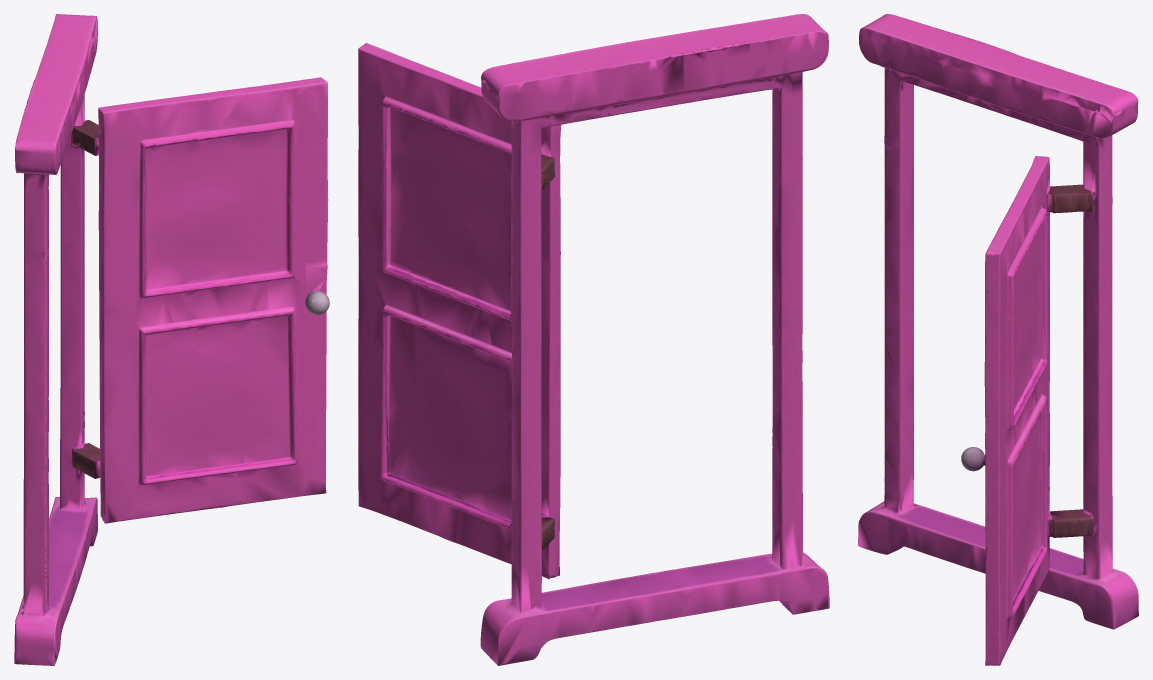
3 views of the same model, side by side, from view 1: azimuth 30°, elevation 25°; view 2: azimuth 150°, elevation 25°; view 3: azimuth 270°, elevation 25° (orthographic). The views are drawn at different scales.
Visible parts, largest first — view 1: tripo_node_375bfd70-03a4-4226-bf1f-712ff7839f95; view 2: tripo_node_375bfd70-03a4-4226-bf1f-712ff7839f95; view 3: tripo_node_375bfd70-03a4-4226-bf1f-712ff7839f95.
Part boxes in pixels (box(x1,y1,x2,y2)): tripo_node_375bfd70-03a4-4226-bf1f-712ff7839f95: box(14, 14, 329, 665); tripo_node_375bfd70-03a4-4226-bf1f-712ff7839f95: box(358, 14, 829, 665); tripo_node_375bfd70-03a4-4226-bf1f-712ff7839f95: box(858, 14, 1138, 665).
Size of the model in its own units: 0.7185 by 0.9814 by 0.4763.
1 material, 1 textured.
